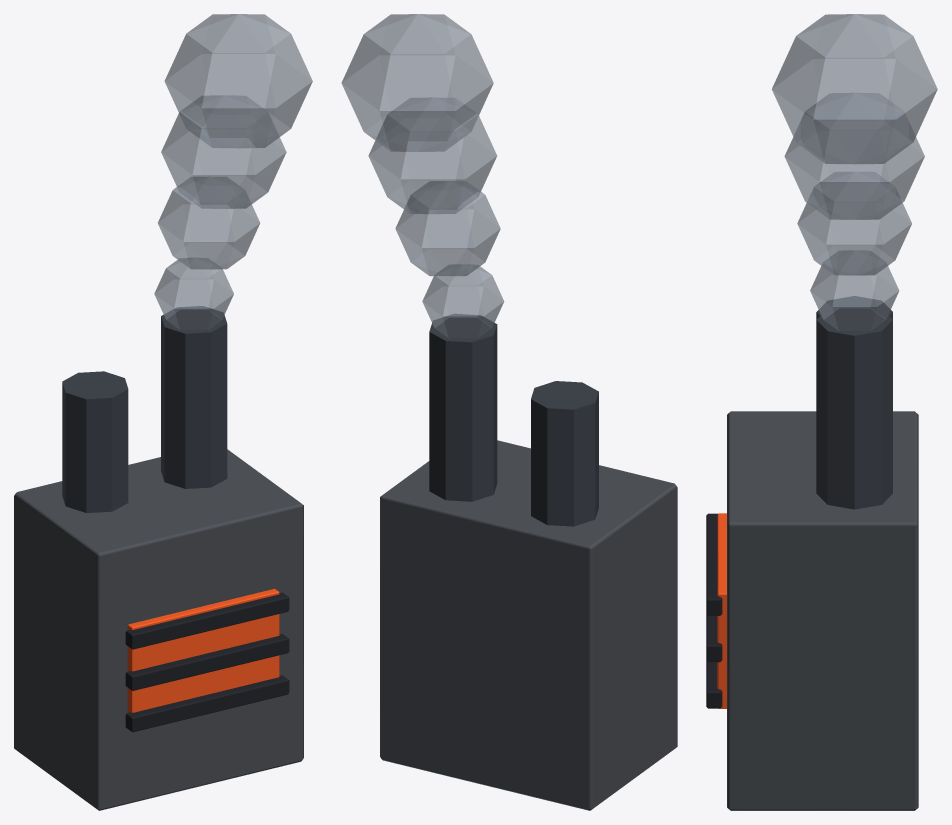
The model's file is overheat.glb.
3 views of the same model, side by side, from view 1: azimuth 30°, elevation 25°; view 2: azimuth 150°, elevation 25°; view 3: azimuth 270°, elevation 25° (orthographic). The views are drawn at different scales.
Parts seen in each view (by area): view 1: furnace, heat_puff_3, chimney_a, heat_puff_2, chimney_b, grate_glow, heat_puff_1, heat_puff_0, grate_bar_0, grate_bar_1, grate_bar_2; view 2: furnace, heat_puff_3, chimney_a, heat_puff_2, chimney_b, heat_puff_1, heat_puff_0; view 3: furnace, heat_puff_3, chimney_a, heat_puff_2, heat_puff_1, heat_puff_0, grate_glow, grate_bar_2, grate_bar_0, grate_bar_1, chimney_b.
Boxes of the visible parts, x1,y1,x2,y2 form: furnace: (14, 449, 303, 810); heat_puff_3: (164, 14, 312, 148); chimney_a: (161, 306, 227, 488); heat_puff_2: (161, 95, 286, 208); chimney_b: (62, 371, 128, 512); grate_glow: (127, 588, 279, 712); heat_puff_1: (158, 176, 260, 269); heat_puff_0: (154, 258, 233, 329); grate_bar_0: (125, 675, 289, 732); grate_bar_1: (125, 634, 289, 690); grate_bar_2: (125, 592, 289, 649); furnace: (380, 440, 677, 810); heat_puff_3: (341, 14, 493, 151); chimney_a: (429, 314, 497, 501); heat_puff_2: (368, 97, 497, 213); chimney_b: (531, 381, 598, 526); heat_puff_1: (395, 181, 500, 276); heat_puff_0: (422, 264, 504, 338); furnace: (727, 411, 918, 810); heat_puff_3: (771, 14, 937, 164); chimney_a: (816, 304, 892, 509); heat_puff_2: (784, 93, 924, 219); heat_puff_1: (797, 172, 911, 275); heat_puff_0: (810, 250, 899, 330); grate_glow: (717, 513, 726, 708); grate_bar_2: (706, 513, 722, 615); grate_bar_0: (706, 661, 722, 708); grate_bar_1: (706, 614, 722, 662); chimney_b: (816, 296, 892, 319).
Bounding box in the file's own units: 0.5126 × 1.37 × 0.3625.
